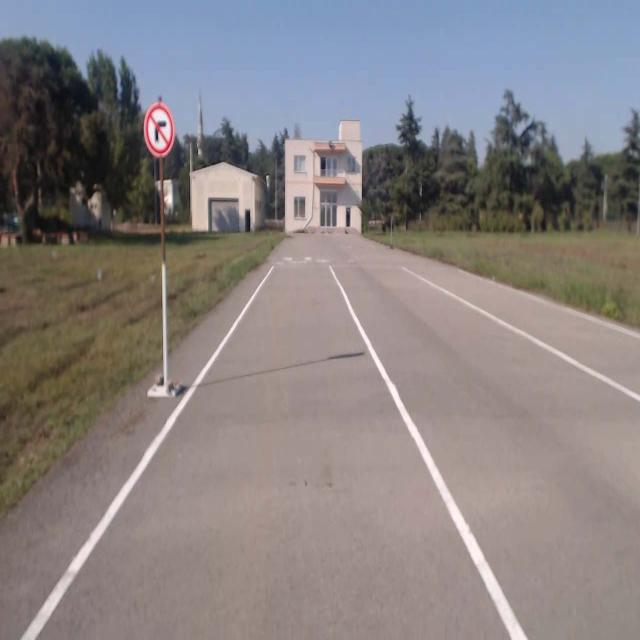sagadonulmez: (143, 101, 175, 158)
